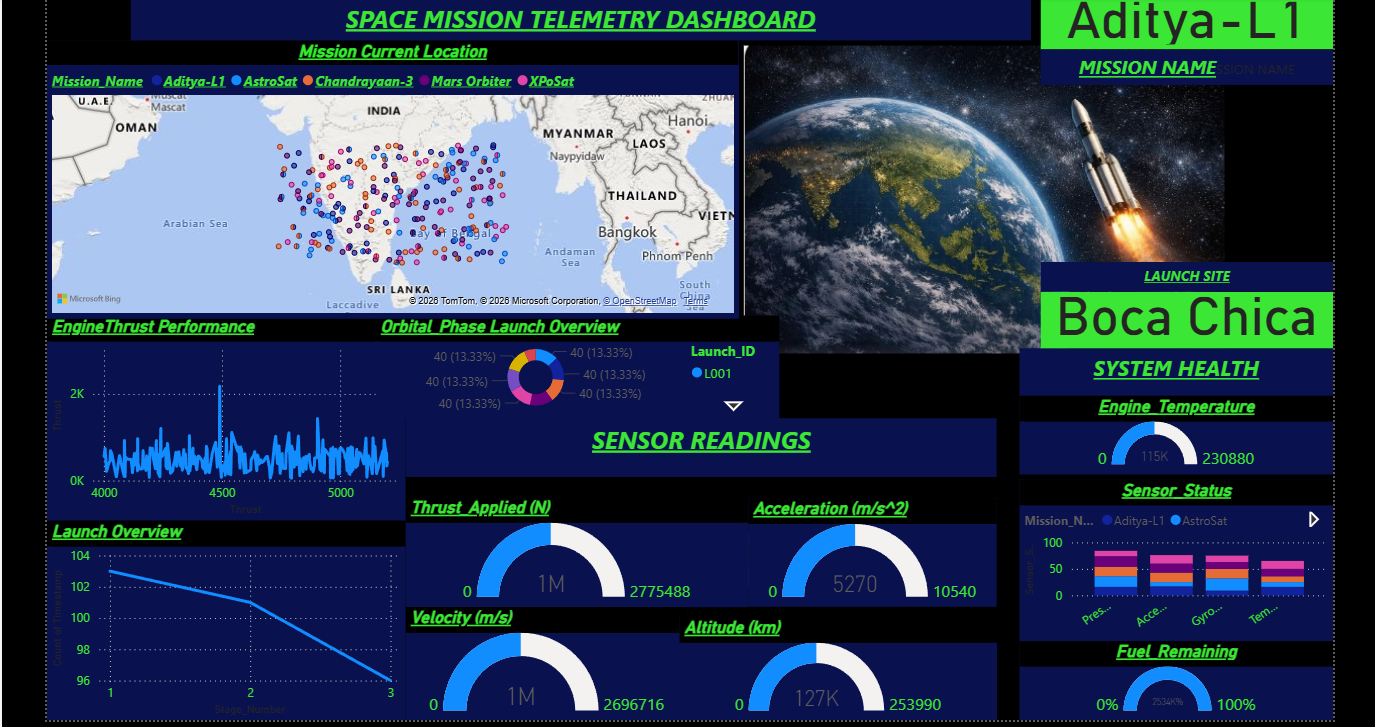

This screenshot's page, from the dashboard's own definition file:
{"tool":"powerbi","page":{"name":"Page 1","canvas":[1280,720],"ordinal":0},"visuals":[{"type":"card","fields":{"Values":["Min(rocket_launch_data (1).Communication_Status)"]},"box":[593.4,532.4,312.2,54.7],"z":0},{"type":"image","box":[651.8,43.5,561,316],"z":1000},{"type":"gauge","fields":{"Y":["Sum(rocket_launch_data (1).Fuel_Remaining_pct)"]},"box":[967.8,640.6,312.2,79.6],"z":2000},{"type":"gauge","fields":{"Y":["Sum(rocket_launch_data (1).Engine_Temperature_C)"]},"box":[967.8,396.8,312.2,78.4],"z":3000},{"type":"textbox","box":[967.8,349.6,312.2,47.3],"z":4000},{"type":"textbox","box":[357,419.2,588.4,58.5],"z":5000},{"type":"gauge","title":"Acceleration (m/s^2)","fields":{"Y":["Sum(rocket_launch_data (1).Acceleration_mps2)"]},"box":[697.9,498.8,247.5,108.2],"z":6000},{"type":"gauge","title":" Thrust_Applied (N)","fields":{"Y":["Sum(rocket_launch_data (1).Thrust_kN)"]},"box":[357,497.6,340.8,109.5],"z":7000},{"type":"gauge","title":" Velocity (m/s)","fields":{"Y":["Sum(rocket_launch_data (1).Velocity_mps)"]},"box":[357,607.1,281.1,113.2],"z":8000},{"type":"gauge","title":"Altitude (km)","fields":{"Y":["Sum(rocket_launch_data (1).Altitude_km)"]},"box":[629.4,617,316,103.2],"z":9000},{"type":"lineChart","title":"EngineThrust Performance","fields":{"Category":["rocket_launch_data (1).Thrust_kN"],"Y":["Sum(rocket_launch_data (1).Altitude_km)"]},"box":[0,317.2,357,204],"z":11000},{"type":"lineChart","title":"Launch Overview","fields":{"Y":["CountNonNull(rocket_launch_data (1).Timestamp)"],"Category":["rocket_launch_data (1).Stage_Number"]},"box":[0,521.2,357,199],"z":12000},{"type":"donutChart","title":" Orbital_Phase Launch Overview","fields":{"Y":["CountNonNull(rocket_launch_data (1).Orbital_Phase)"],"Category":["rocket_launch_data (1).Launch_ID"]},"box":[327.2,317.2,401.8,102],"z":13000},{"type":"columnChart","title":"Sensor_Status ","fields":{"Category":["rocket_launch_data (1).Sensor_Type"],"Y":["CountNonNull(rocket_launch_data (1).Sensor_Status)"],"Series":["rocket_launch_data (1).Mission_Name"]},"box":[967.8,480.2,312.2,160.5],"z":14000},{"type":"map","title":"Mission  Current Location","fields":{"Category":["rocket_launch_data (1).Altitude_km"],"Y":["Avg(rocket_launch_data (1).Latitude)"],"X":["Avg(rocket_launch_data (1).Longitude)"],"Series":["rocket_launch_data (1).Mission_Name"]},"box":[0,43.5,687.9,276.2],"z":15000},{"type":"card","fields":{"Values":["Min(rocket_launch_data (1).Mission_Name)"]},"box":[988.9,0,291.1,52.2],"z":16000},{"type":"card","fields":{"Values":["Min(rocket_launch_data (1).Launch_Site)"]},"box":[988.9,293.6,291.1,56],"z":17000},{"type":"textbox","box":[988.9,52.2,291.1,34.8],"z":18000},{"type":"textbox","box":[83.3,0,895.7,43.5],"z":19000},{"type":"textbox","box":[988.9,263.7,291.1,29.9],"z":20000}]}

Visuals, with their boxes on the page's 1280x720 design canvas (x1, y1, x2, y2). These are canvas units, not pixel positions in the 1375x727 screenshot, which may show the page scaled, cropped or inside an application window:
card - Min(rocket_launch_data (1).Communication_Status): bbox(593, 532, 906, 587)
image: bbox(652, 44, 1213, 360)
gauge - Sum(rocket_launch_data (1).Fuel_Remaining_pct): bbox(968, 641, 1280, 720)
gauge - Sum(rocket_launch_data (1).Engine_Temperature_C): bbox(968, 397, 1280, 475)
textbox: bbox(968, 350, 1280, 397)
textbox: bbox(357, 419, 945, 478)
"Acceleration (m/s^2)" gauge: bbox(698, 499, 945, 607)
" Thrust_Applied (N)" gauge: bbox(357, 498, 698, 607)
" Velocity (m/s)" gauge: bbox(357, 607, 638, 720)
"Altitude (km)" gauge: bbox(629, 617, 945, 720)
"EngineThrust Performance" lineChart: bbox(0, 317, 357, 521)
"Launch Overview" lineChart: bbox(0, 521, 357, 720)
" Orbital_Phase Launch Overview" donutChart: bbox(327, 317, 729, 419)
"Sensor_Status " columnChart: bbox(968, 480, 1280, 641)
"Mission  Current Location" map: bbox(0, 44, 688, 320)
card - Min(rocket_launch_data (1).Mission_Name): bbox(989, 0, 1280, 52)
card - Min(rocket_launch_data (1).Launch_Site): bbox(989, 294, 1280, 350)
textbox: bbox(989, 52, 1280, 87)
textbox: bbox(83, 0, 979, 44)
textbox: bbox(989, 264, 1280, 294)
